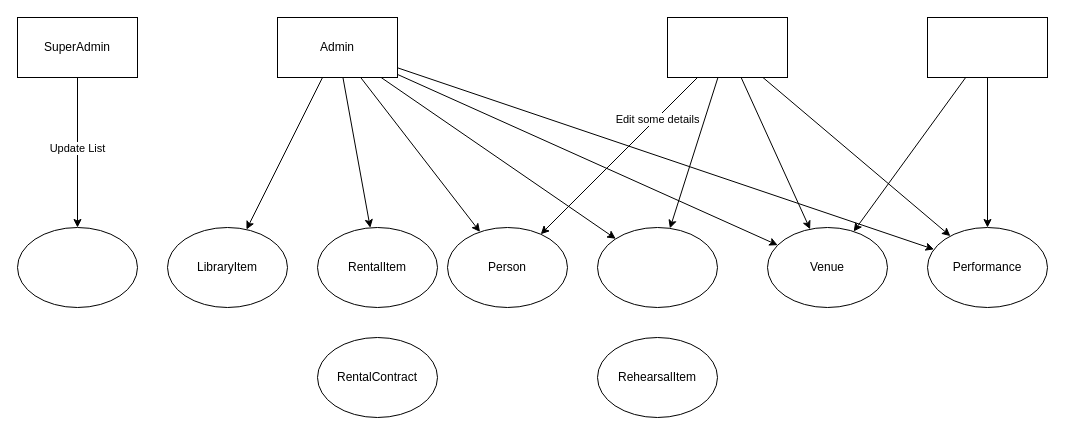
Image size: 1065x435. Some labels were removed from this diagram. The shapes that lost their labels are listed below. From the top down, each one's box as (x1, y1, x2, y2) in pixels, then its label:
(666, 16, 788, 78): User
(926, 16, 1048, 78): Public
(16, 226, 138, 308): Instrument
(596, 226, 718, 308): Rehearsal
